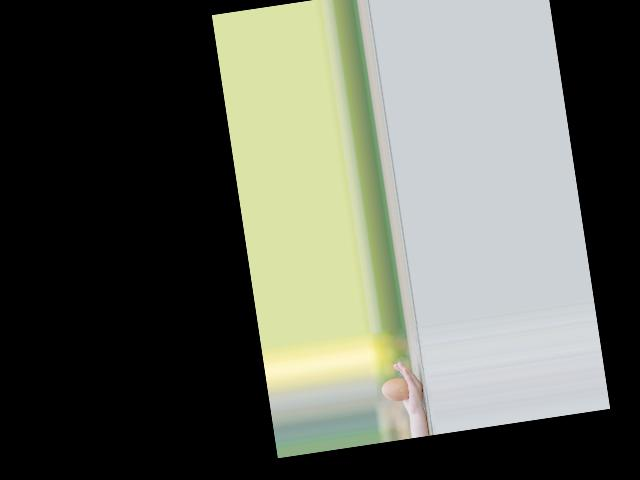egg: (380, 377, 410, 404)
